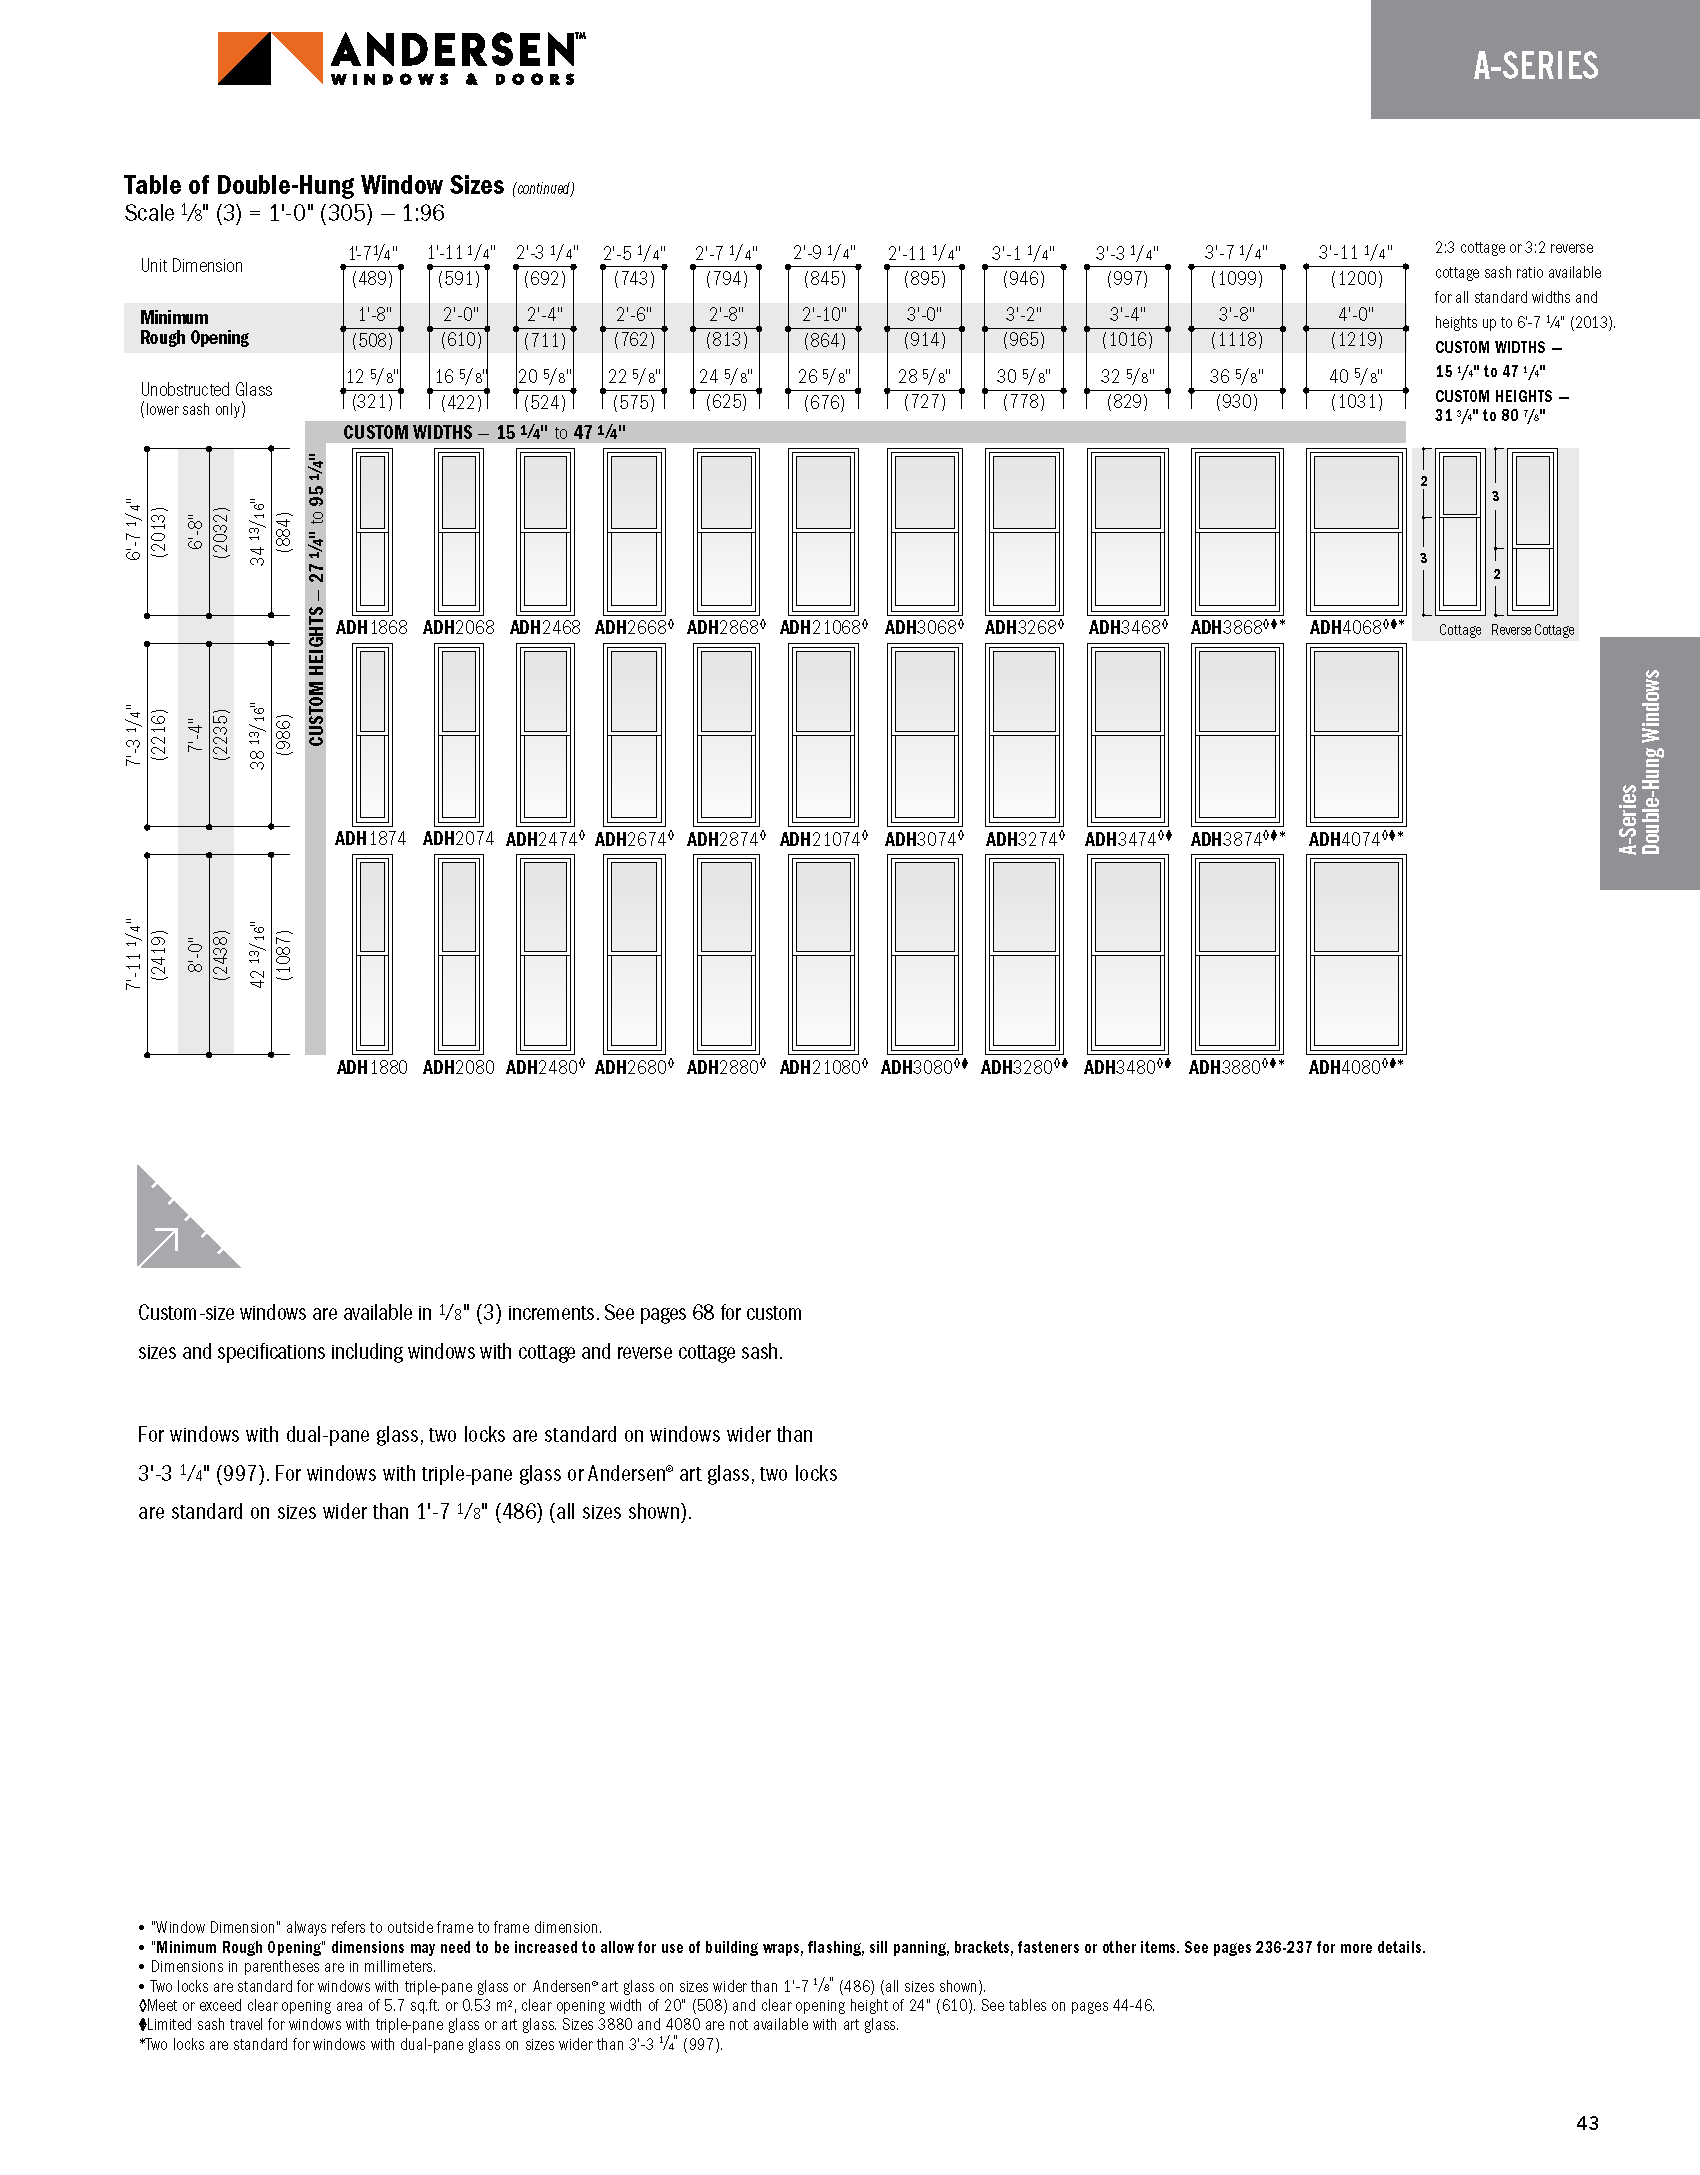tabledetected: (120, 242, 1412, 1086)
